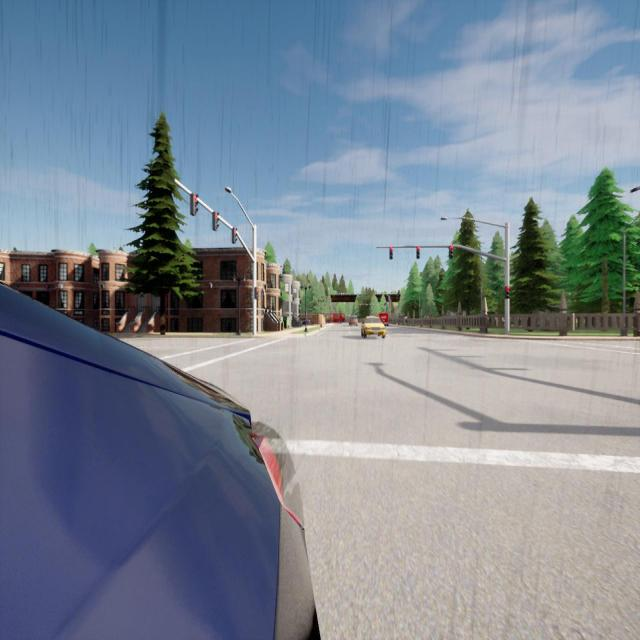Vehicle: (0, 286, 318, 640), (361, 314, 386, 339), (327, 312, 347, 323), (378, 312, 389, 327), (349, 315, 358, 326), (300, 318, 311, 326)
traffic_light: (190, 194, 198, 216), (212, 212, 220, 231), (504, 284, 510, 300), (232, 228, 237, 244), (449, 245, 453, 259), (416, 246, 420, 259), (389, 247, 393, 259), (254, 287, 257, 299)
